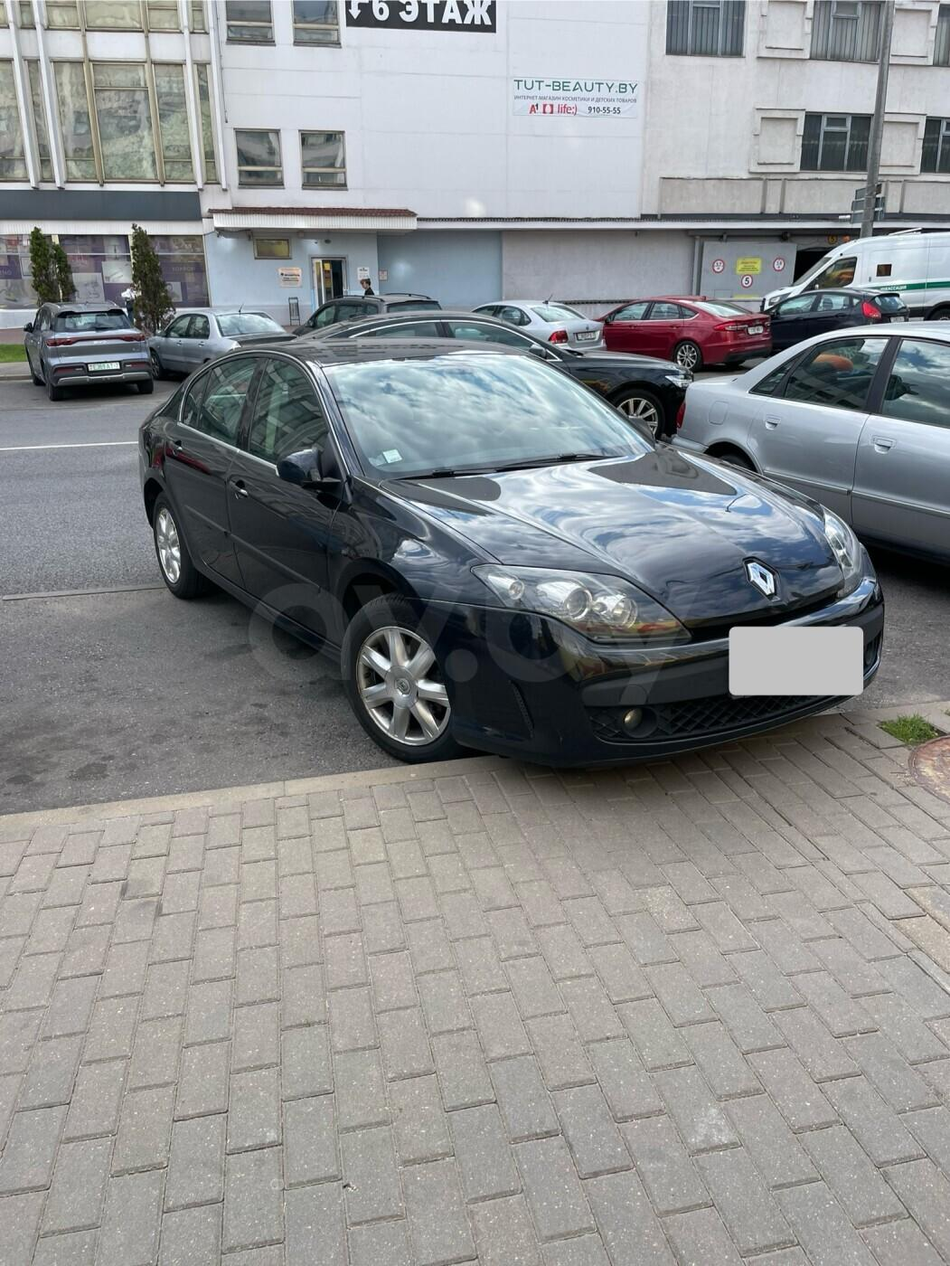Laguna_2007-2011: (138, 339, 884, 764)
